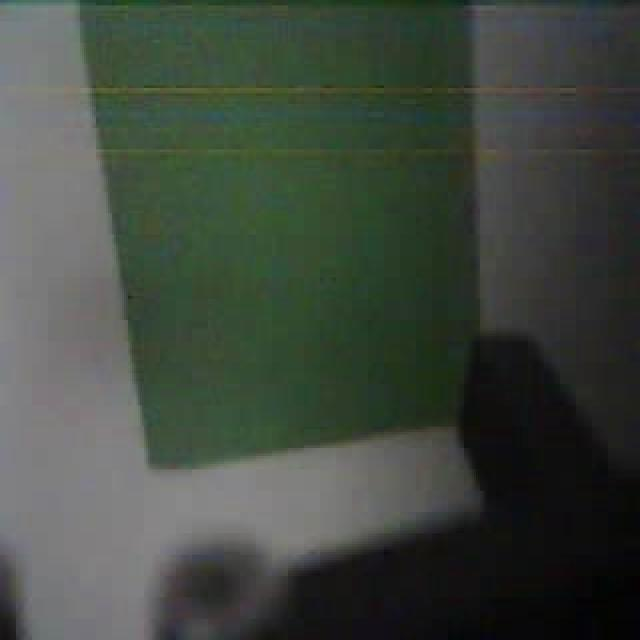green_box: (76, 0, 484, 472)
